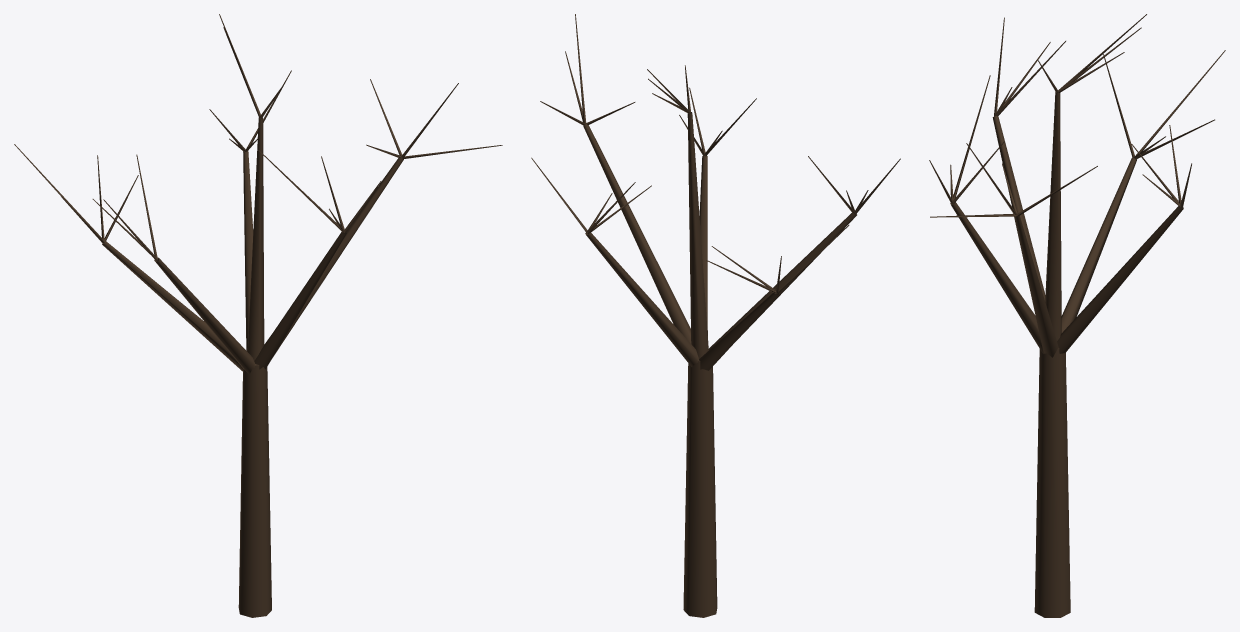
Rendered from tree-lime-1-bare.glb.
3 renders of one model, left to right at view 1: azimuth 30°, elevation 25°; view 2: azimuth 150°, elevation 25°; view 3: azimuth 270°, elevation 25°, orthographic. The views are drawn at different scales.
Parts seen in each view (by area): view 1: 00_#4a3a2c; view 2: 00_#4a3a2c; view 3: 00_#4a3a2c.
Part boxes in pixels (bbox=[...]): 00_#4a3a2c: bbox=[14, 14, 502, 617]; 00_#4a3a2c: bbox=[531, 14, 900, 617]; 00_#4a3a2c: bbox=[929, 14, 1225, 617].
Size of the model in its own units: 8.78 by 12.93 by 5.78.
